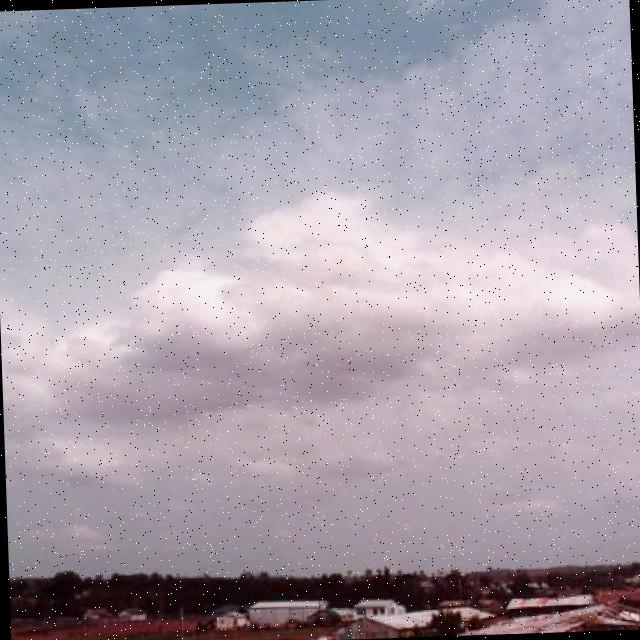Cc: (1, 6, 640, 511)
